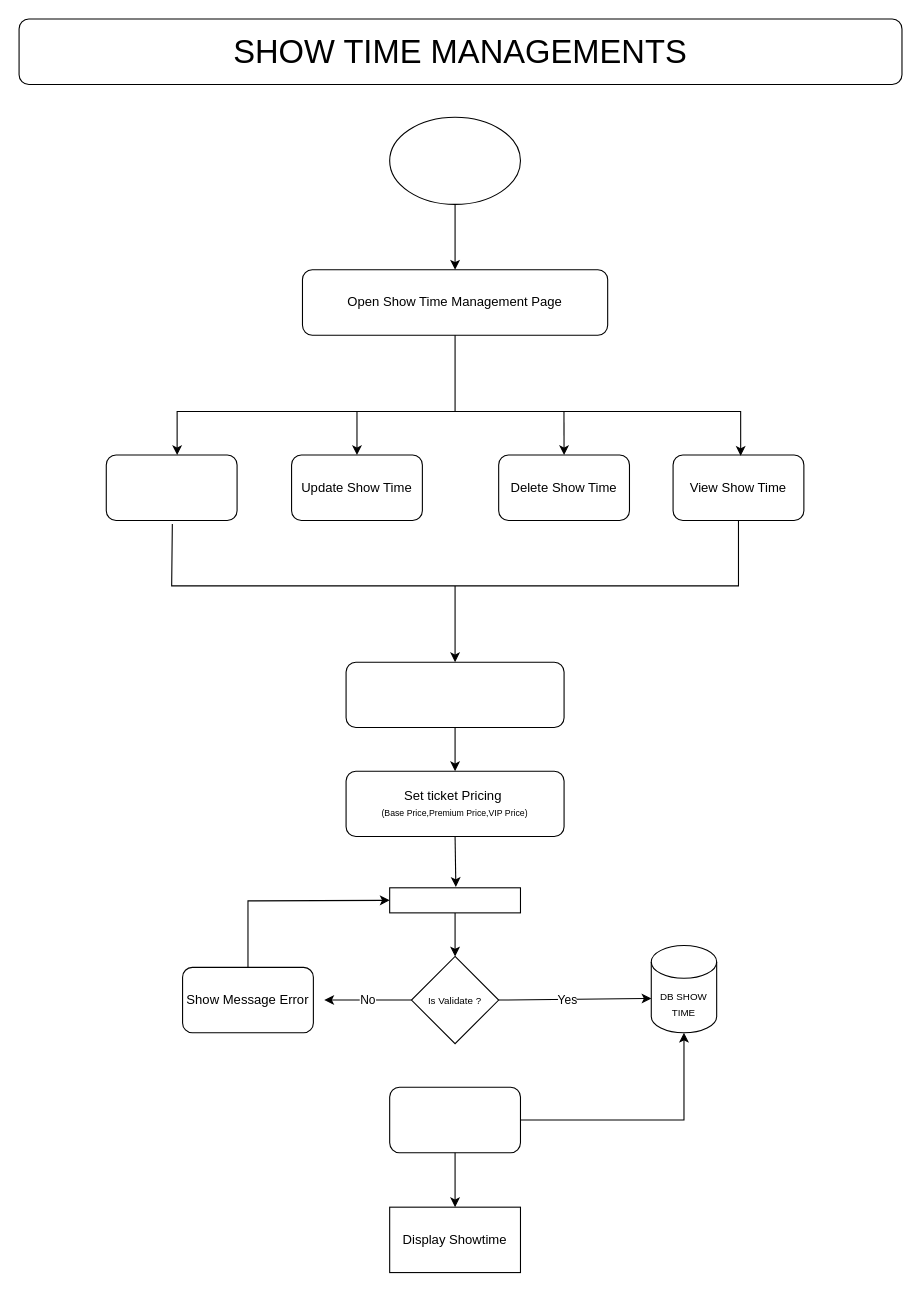
Image size: 921x1292. Some labels were removed from this diagram. Each missing label, with the centre of its shape:
"Add Show Time" belongs at pixel 171 487.
"Admin" belongs at pixel 454 160.
"Enter Show Time ( SelecMovie,Select Cinema &Hall, Selete date & Time)" belongs at pixel 454 694.
"Save to database" belongs at pixel 454 1119.
"Validate ShowTime Data" belongs at pixel 454 900.
